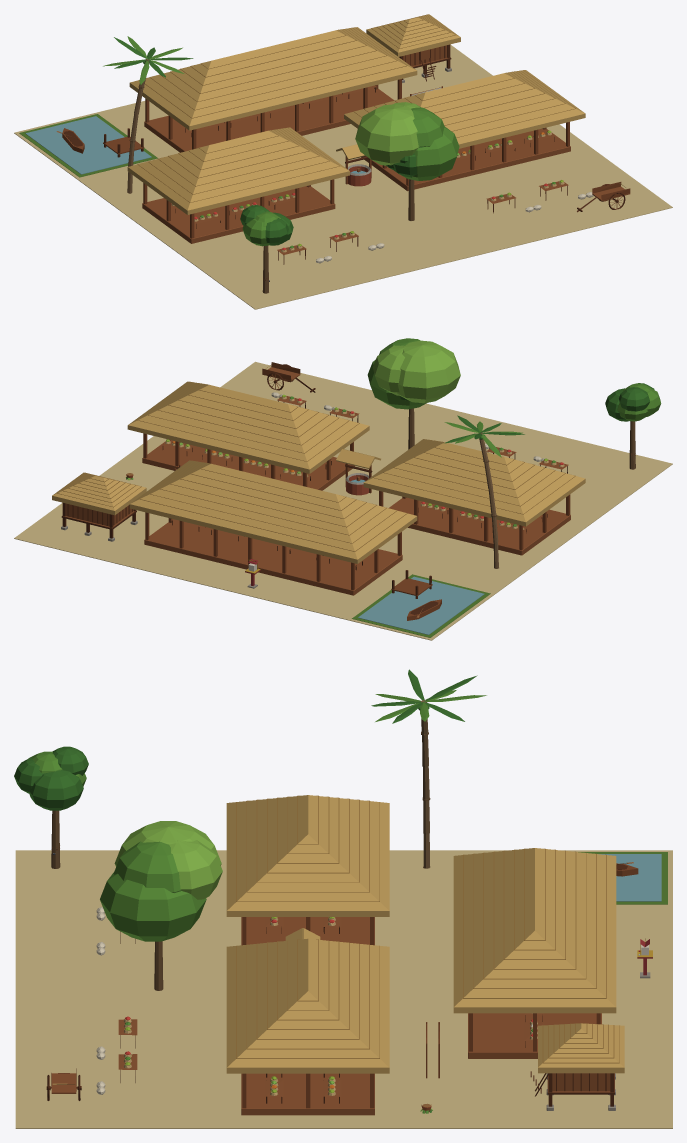
The model's file is shop_5.glb.
3 views of the same model, one above another, from view 1: azimuth 30°, elevation 25°; view 2: azimuth 150°, elevation 25°; view 3: azimuth 270°, elevation 25° (orthographic). The views are drawn at different scales.
Visible parts, largest first — view 1: body; view 2: body; view 3: body.
Boxes of the visible parts, x1,y1,x2,y2 form: body: (14, 14, 672, 309); body: (14, 338, 672, 640); body: (14, 669, 672, 1128).
Size of the model in its own units: 31.9 by 10.68 by 31.98.
